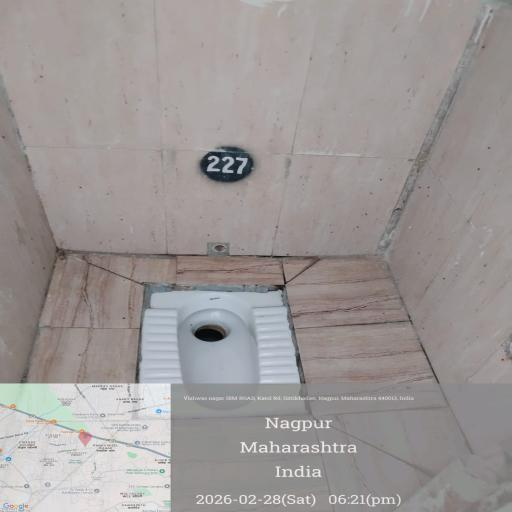clean_basin: (7, 19, 429, 226)
clean_floor: (59, 247, 503, 512)
clean_indian: (106, 272, 317, 419)
